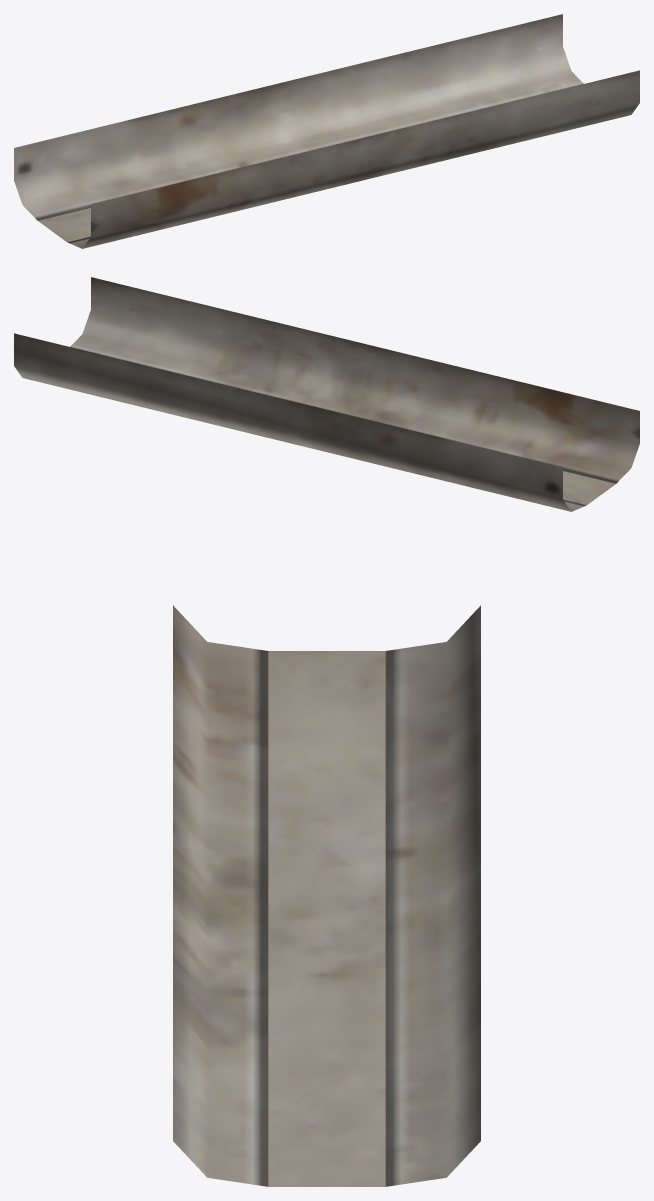
File: lab_ceiling_welder_short.dae
3 views of the same model, one above another, from view 1: azimuth 30°, elevation 25°; view 2: azimuth 150°, elevation 25°; view 3: azimuth 270°, elevation 25° (orthographic). The views are drawn at different scales.
Visible parts, largest first — view 1: lab_ceiling_welder_short; view 2: lab_ceiling_welder_short; view 3: lab_ceiling_welder_short.
Part boxes in pixels (x1=…): lab_ceiling_welder_short: x1=14, y1=14, x2=639, y2=248; lab_ceiling_welder_short: x1=14, y1=277, x2=639, y2=511; lab_ceiling_welder_short: x1=173, y1=605, x2=480, y2=1186.
Bounding box in the file's own units: 1 × 0.0965 × 0.2426.
